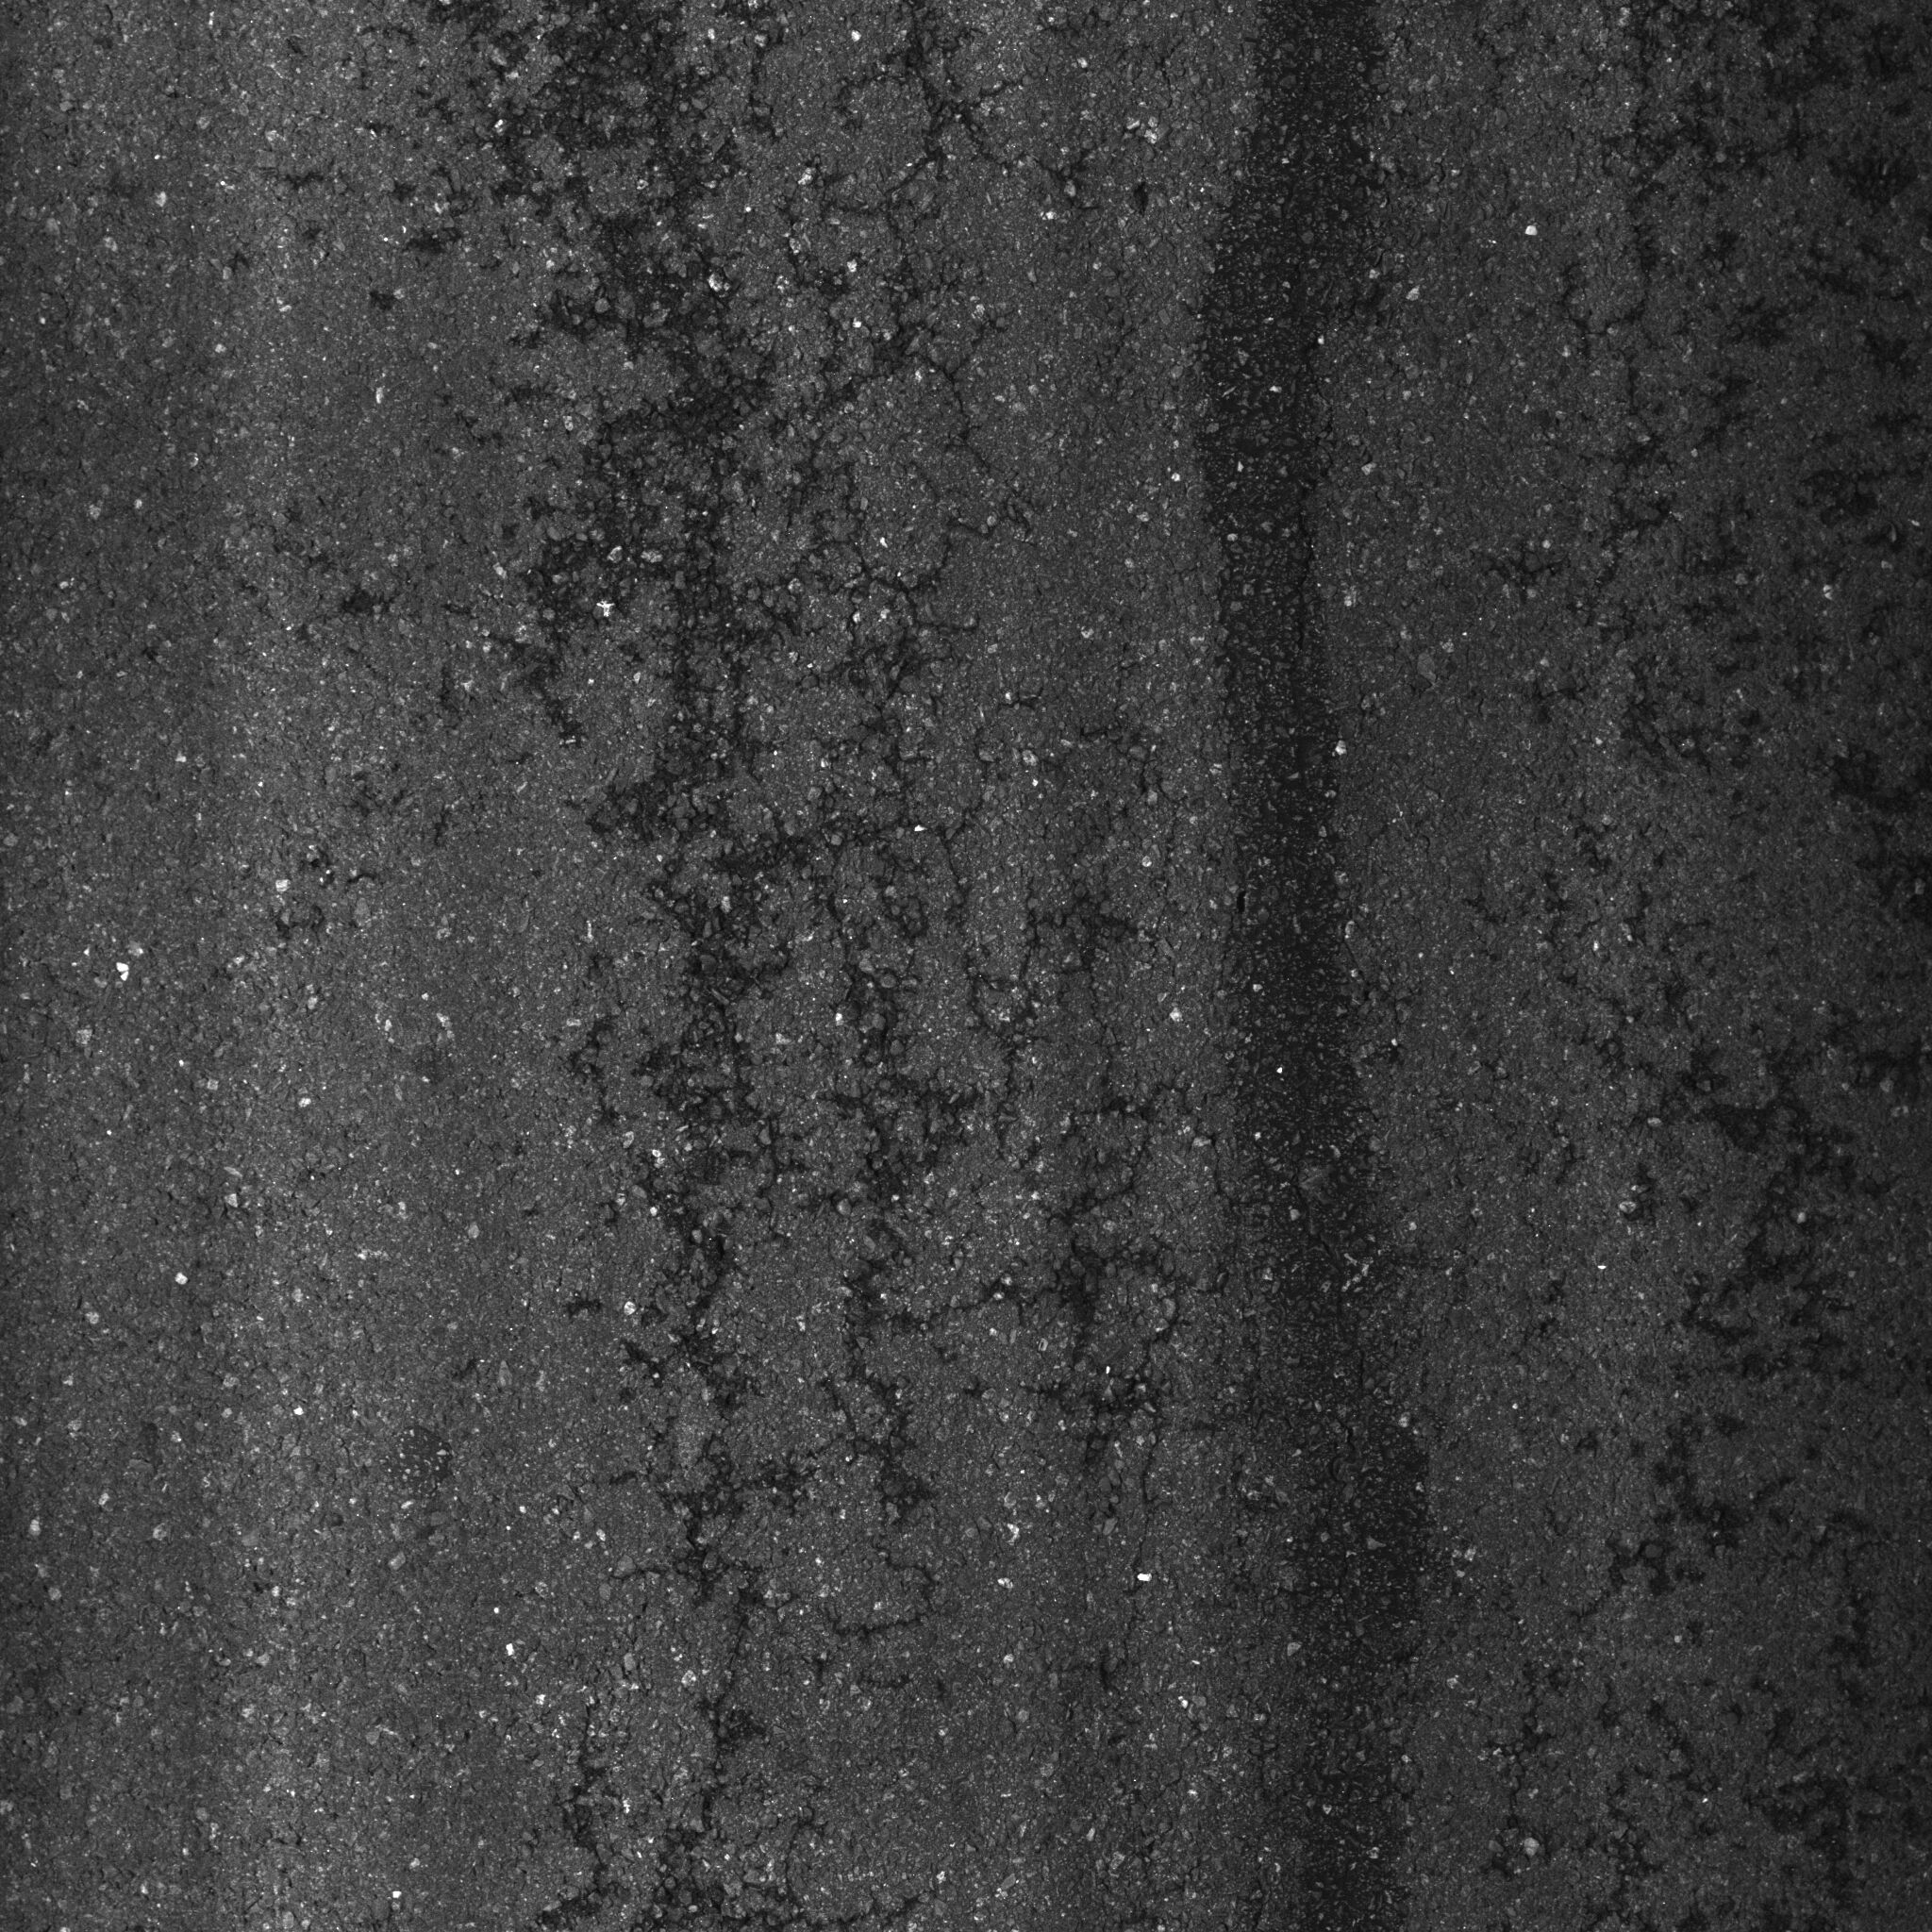alligator: (292, 2, 1490, 1932)
